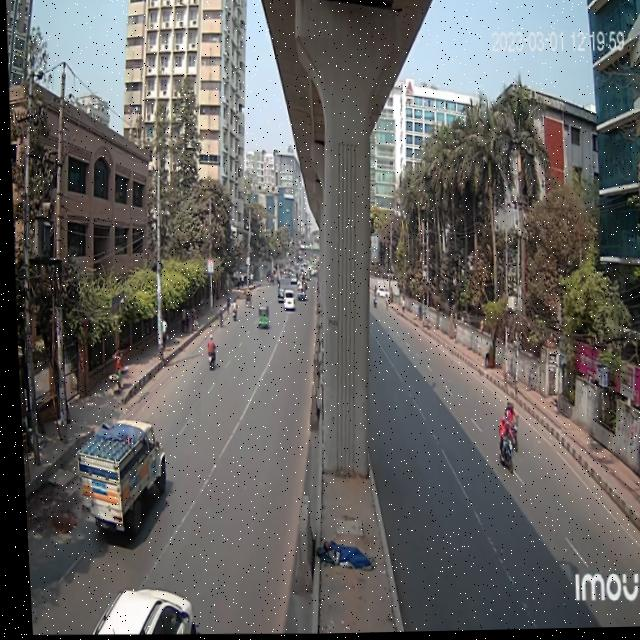cng: (252, 303, 269, 337)
rikshaw: (240, 287, 251, 311)
